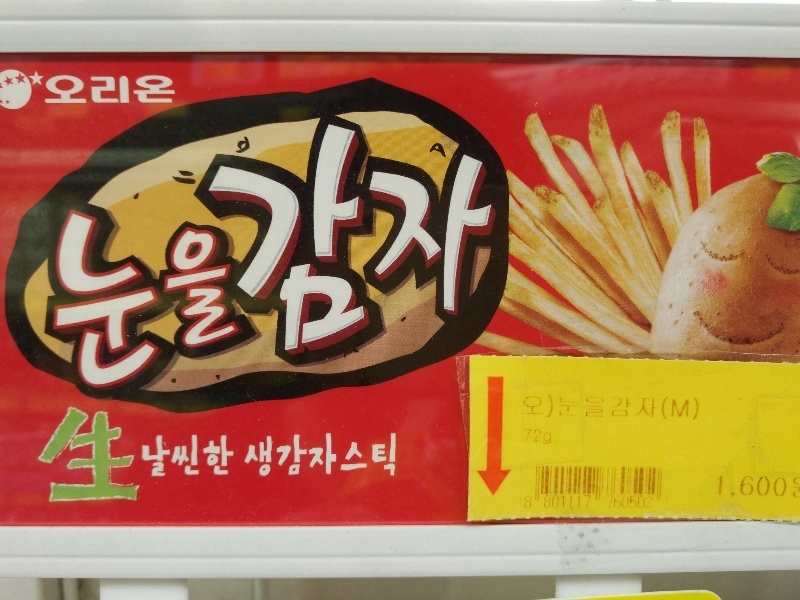text: (49, 64, 64, 403), (65, 64, 80, 403), (81, 64, 96, 403), (97, 64, 112, 403), (113, 64, 128, 403), (129, 64, 144, 403), (145, 64, 160, 403), (161, 64, 176, 403), (177, 64, 192, 403), (193, 64, 208, 403), (209, 64, 224, 403), (225, 64, 240, 403), (241, 64, 256, 403), (257, 64, 272, 403), (273, 64, 288, 403), (289, 64, 304, 403), (305, 64, 320, 403), (321, 64, 336, 403), (337, 64, 352, 403), (353, 64, 368, 403), (369, 64, 384, 403), (385, 64, 400, 403), (401, 64, 416, 403), (417, 64, 432, 403), (433, 64, 448, 403), (449, 64, 464, 403), (465, 64, 480, 403), (481, 64, 494, 403), (39, 64, 48, 403), (49, 409, 64, 504), (65, 409, 80, 504), (81, 409, 96, 504), (97, 409, 112, 504), (113, 409, 128, 504), (37, 409, 48, 504), (385, 426, 401, 483), (257, 426, 272, 483), (273, 426, 288, 483), (289, 426, 304, 483), (305, 426, 320, 483), (321, 426, 336, 483), (337, 426, 352, 483), (353, 426, 368, 483), (369, 426, 384, 483), (129, 409, 138, 504), (145, 433, 160, 484), (161, 433, 176, 484), (177, 433, 192, 484), (193, 433, 208, 484), (209, 433, 224, 484), (245, 426, 256, 483), (225, 433, 237, 484), (49, 73, 64, 110), (65, 73, 80, 110), (81, 73, 96, 110), (97, 73, 112, 110), (113, 73, 128, 110), (129, 73, 144, 110), (145, 73, 160, 110), (161, 73, 176, 110), (529, 392, 544, 423), (721, 471, 736, 502), (737, 471, 752, 502), (753, 471, 768, 502), (769, 471, 784, 502), (673, 396, 688, 426), (689, 396, 702, 426), (641, 397, 657, 418), (661, 396, 672, 426), (561, 397, 576, 418), (577, 397, 592, 418), (593, 397, 608, 418), (609, 397, 624, 418), (625, 397, 640, 418), (518, 392, 528, 423), (545, 392, 555, 423), (138, 433, 144, 484), (529, 429, 544, 445), (545, 495, 560, 509), (561, 495, 576, 509), (609, 495, 624, 509), (625, 495, 640, 509), (577, 495, 591, 509), (785, 471, 791, 502), (641, 495, 653, 509), (545, 429, 555, 445), (44, 73, 48, 110), (716, 471, 720, 502), (177, 73, 180, 110), (523, 429, 528, 445), (525, 496, 528, 510), (529, 496, 532, 510), (559, 397, 560, 418), (607, 495, 608, 509)
